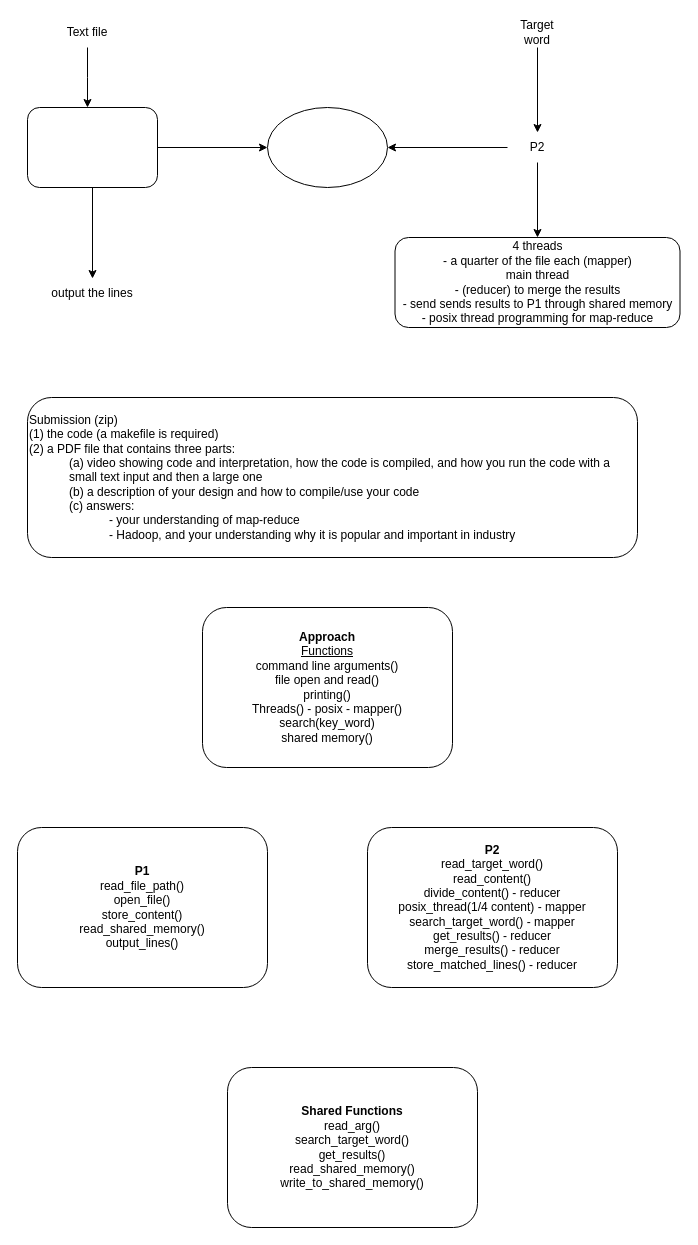
The diagram is 698 pixels wide and 1245 high, and some of its shapes have lost their labels. Each missing label, with the box of its shape:
P1 opens the text file, reads the content, and stores: (26, 106, 158, 188)
shared memory ( memory-backed ): (266, 106, 388, 188)
